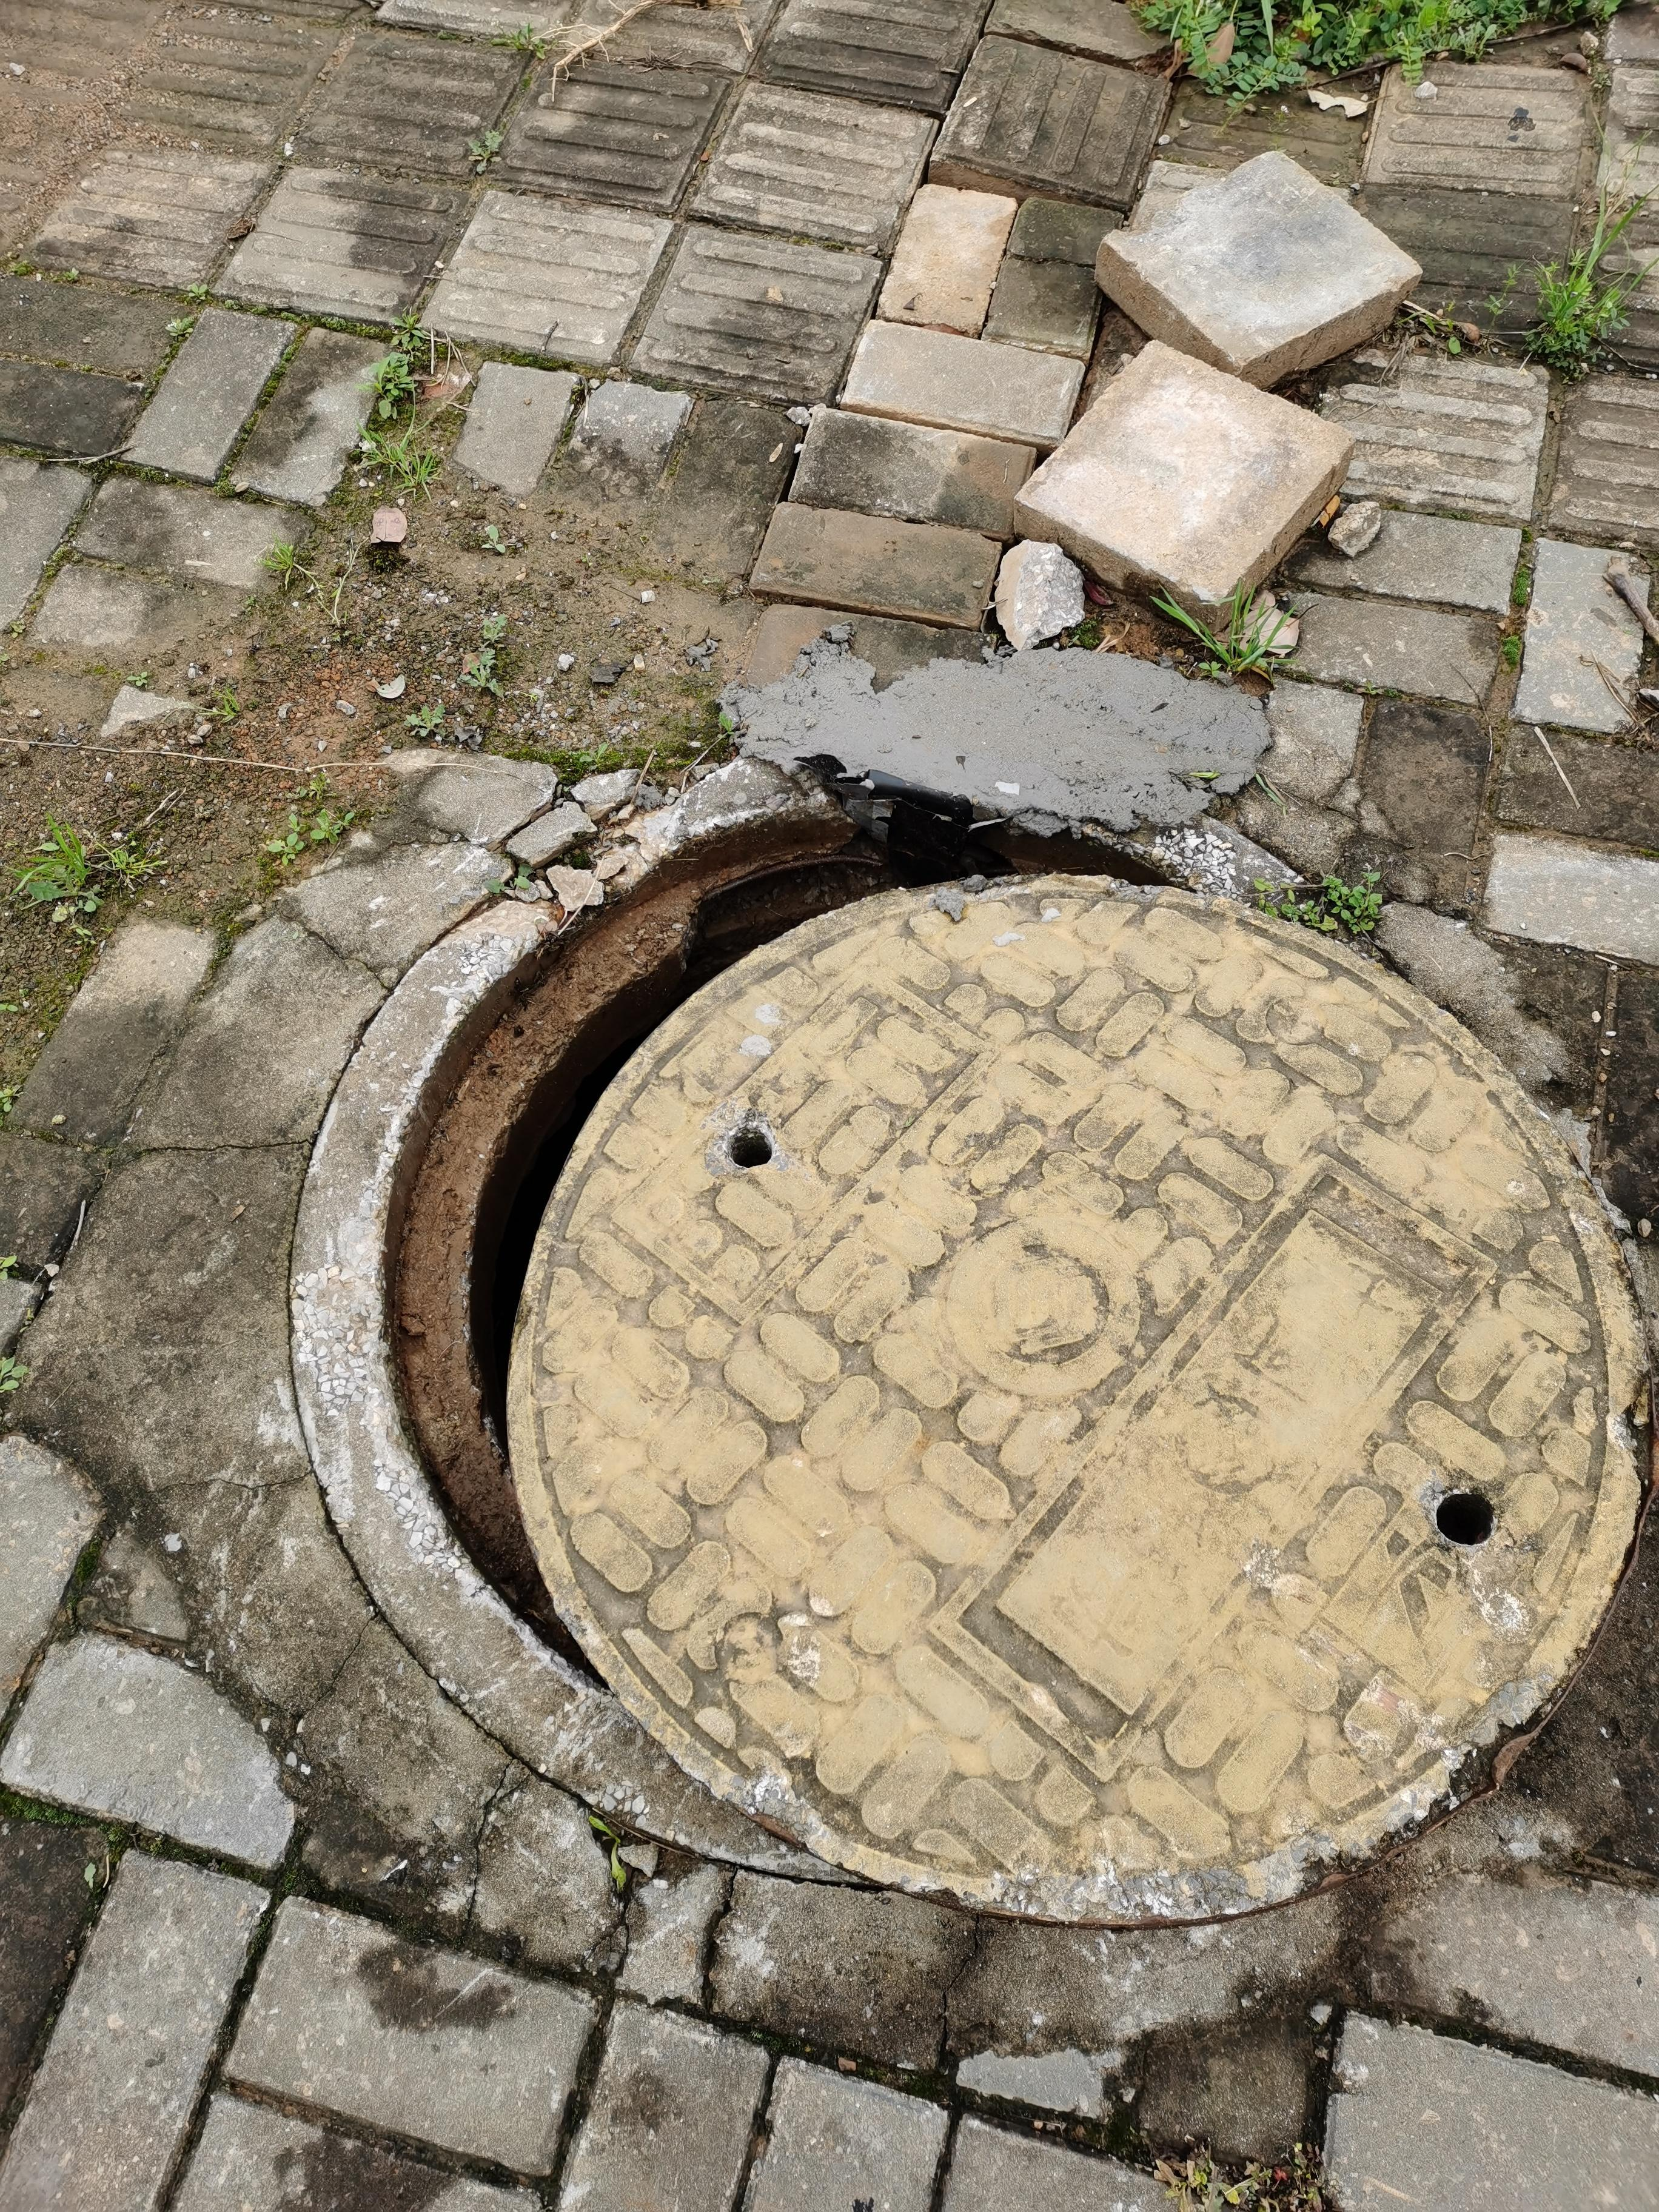wellcover: (356, 789, 1659, 1912)
